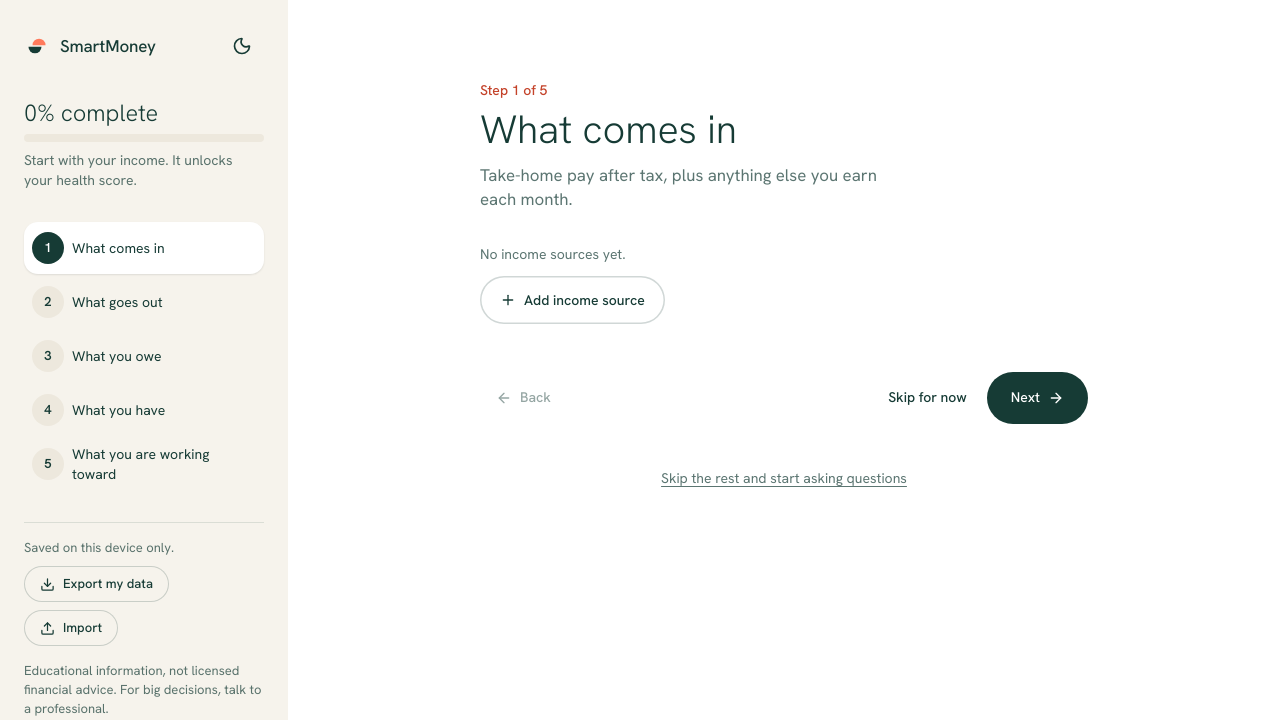
Test: sheets › open as labelled dialogs
Click the button "Skip the rest and start asking questions": click(784, 478) [661, 456, 907, 500]
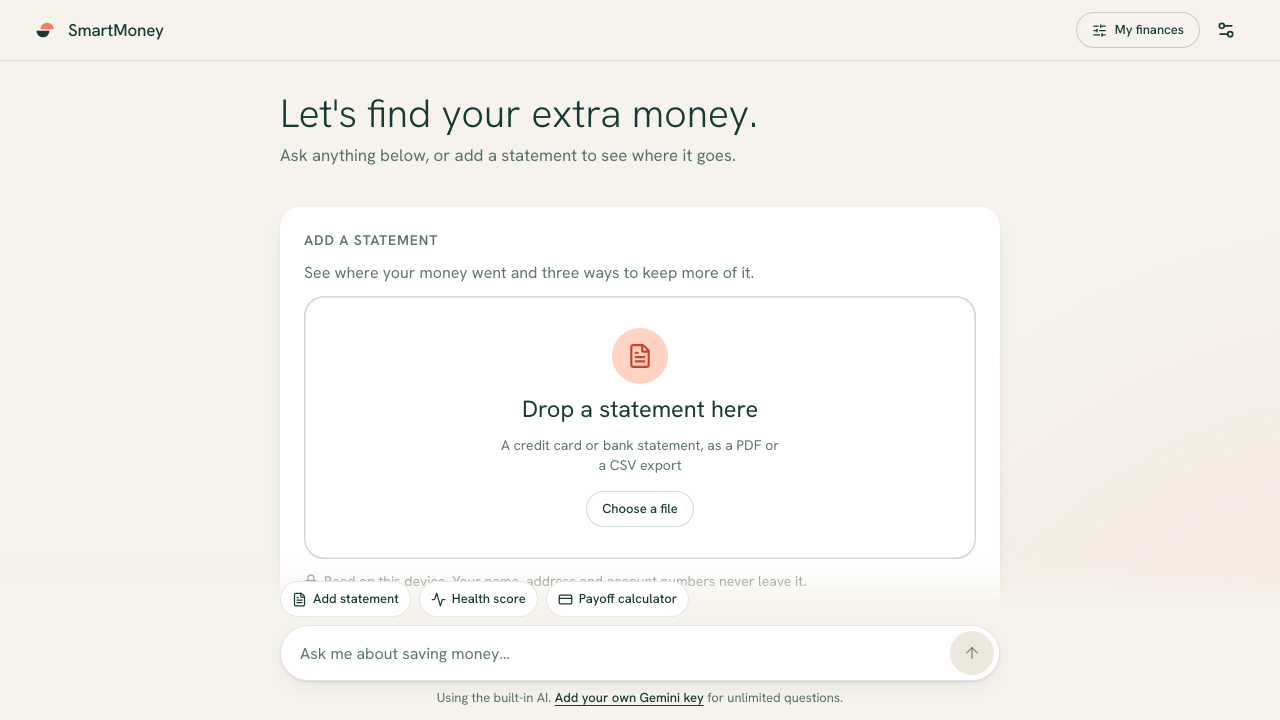
Click the button with aria-label "Debt Payoff Calculator": click(617, 599) [546, 581, 689, 617]
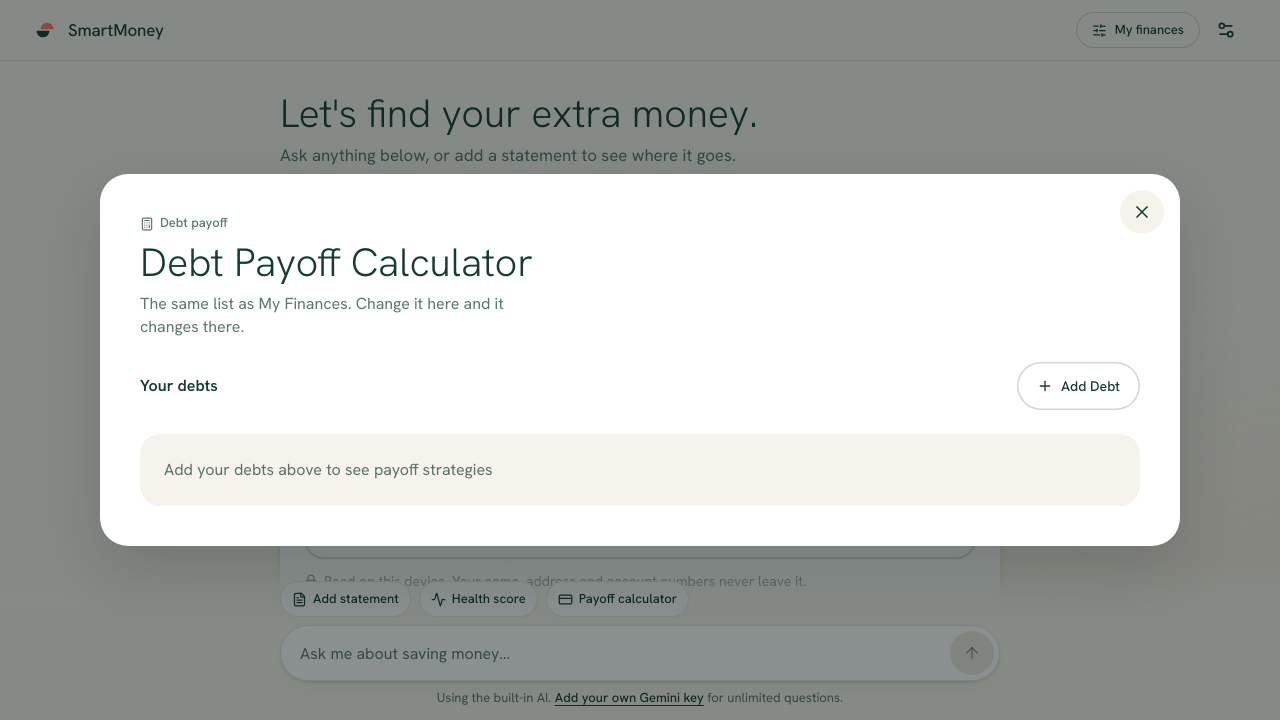
expect the dialog "Debt Payoff Calculator" is shown: met, box [100, 174, 1180, 546]
